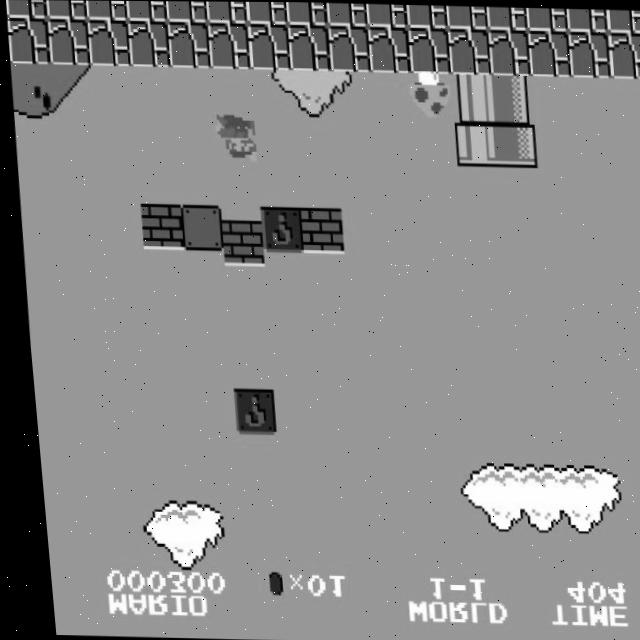1- brick_block: (135, 203, 180, 250), (295, 206, 340, 253)
11- little_mario: (207, 113, 255, 163)
12- mushroom: (403, 69, 450, 119)
13- mystery_block: (255, 205, 300, 253), (225, 388, 270, 434)
14- pipe: (448, 73, 493, 120), (488, 74, 533, 121)
15- pipe_head: (490, 119, 535, 167), (450, 119, 495, 166)
17- undestructible_block: (85, 18, 131, 66), (165, 20, 211, 68), (245, 22, 291, 70), (45, 18, 91, 65), (125, 20, 171, 67), (205, 22, 251, 69), (326, 24, 371, 72), (406, 26, 451, 74), (286, 23, 331, 70), (366, 25, 411, 72), (446, 27, 491, 74), (486, 28, 531, 75), (526, 29, 571, 76), (566, 30, 611, 77), (6, 18, 50, 65), (605, 32, 640, 79), (485, 5, 528, 30), (565, 7, 608, 32), (325, 2, 368, 26), (365, 3, 408, 27), (405, 4, 448, 28), (445, 5, 488, 29), (525, 7, 568, 31), (245, 1, 288, 24), (285, 2, 328, 25), (205, 1, 248, 23), (165, 1, 207, 22), (45, 0, 87, 20), (85, 0, 127, 20), (125, 1, 167, 21), (604, 10, 640, 33), (5, 0, 46, 18)
3- empty_block: (175, 203, 220, 251)
